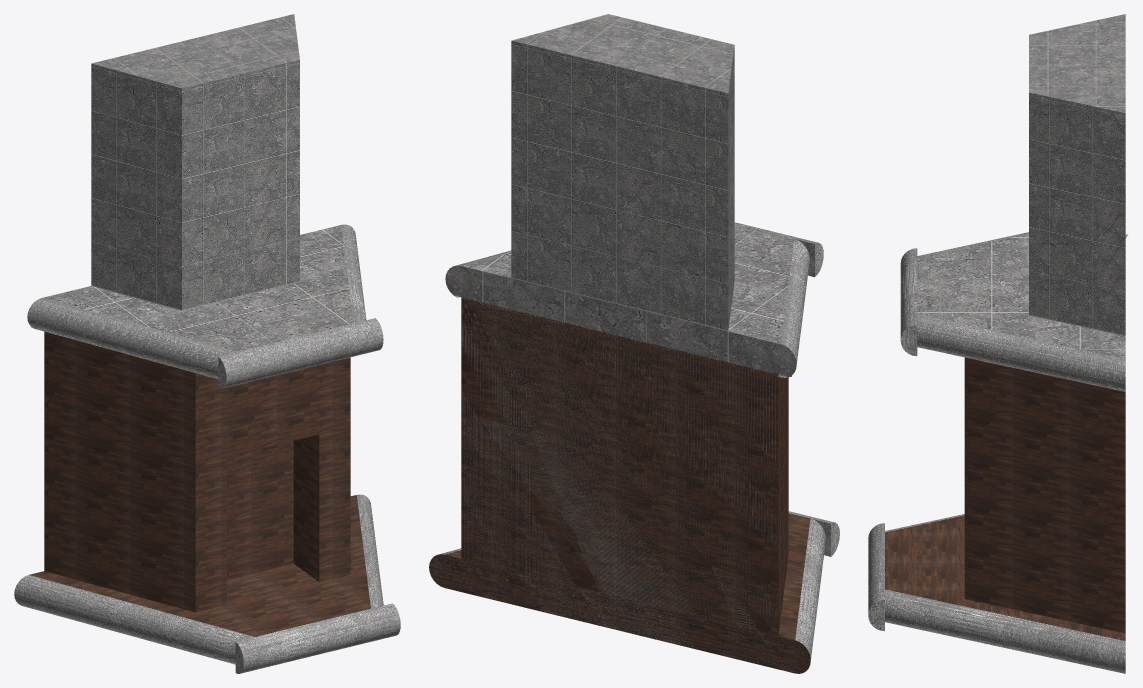
File: fireplace2.dae
The picture shows the model from 3 angles, left to right: view 1: azimuth 30°, elevation 25°; view 2: azimuth 150°, elevation 25°; view 3: azimuth 270°, elevation 25°; orthographic projection. The views are drawn at different scales.
Visible parts, largest first — view 1: tall_fire_place (×10); view 2: tall_fire_place (×7); view 3: tall_fire_place (×9).
Boxes of the visible parts, x1=… form: tall_fire_place (×10): x1=14, y1=14, x2=400, y2=673; tall_fire_place (×7): x1=429, y1=14, x2=825, y2=673; tall_fire_place (×9): x1=868, y1=14, x2=1125, y2=673.
Size of the model in its own units: 76.99 by 48.51 by 109.
Materials: 8 (6 with a texture image).
